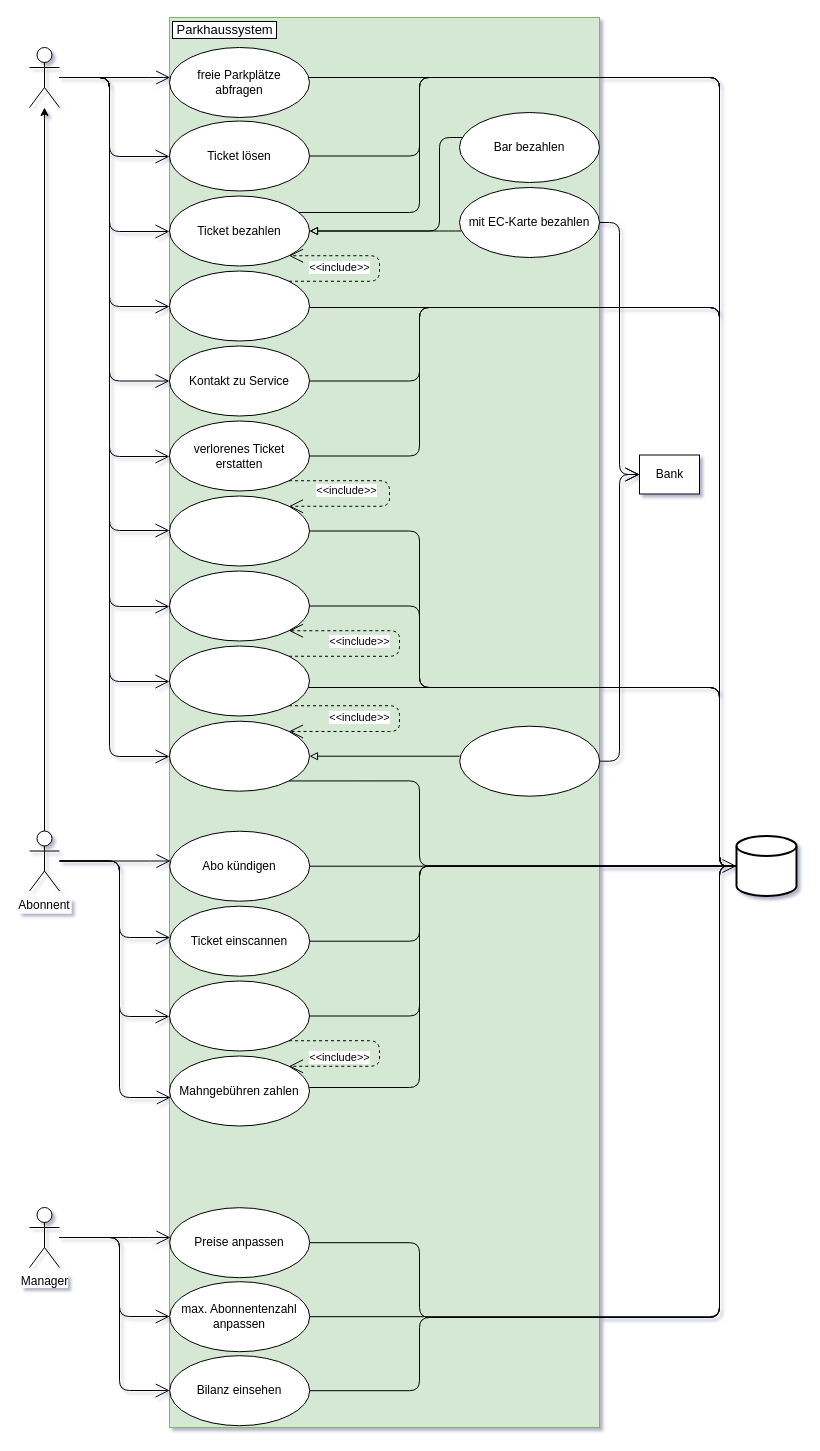
Some shapes in this 820 by 1451 pixel diagram are drawn without their labels. The centre of each missing label's shape, as x and y in pixels:
Abo abschließen: (239,680)
Abo bezahlen: (239,755)
Daten hinterlegen: (239,605)
DB: (766,865)
Kunde: (44,77)
Parkhaus verlassen: (239,305)
per Lastschriftverfahren zahlen: (529,760)
Tageshöchstsatz + Mahngebühren zahlen: (239,530)
verlorenes Aboticket erstatten: (239,1015)
